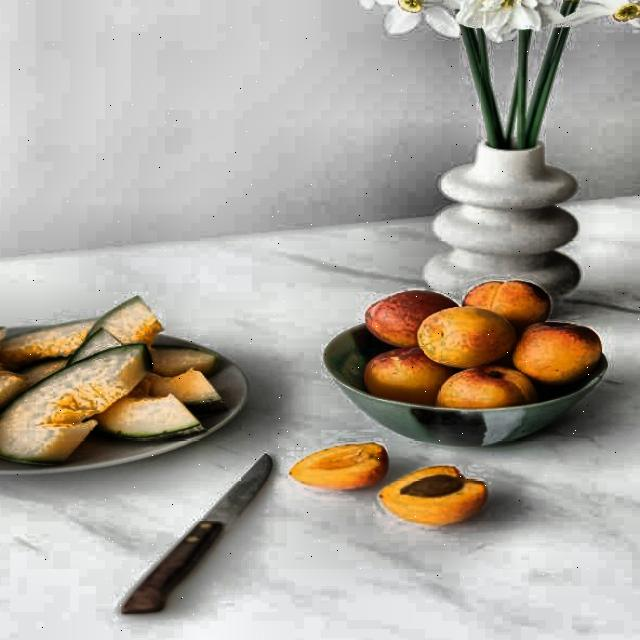knife: (117, 450, 283, 619)
